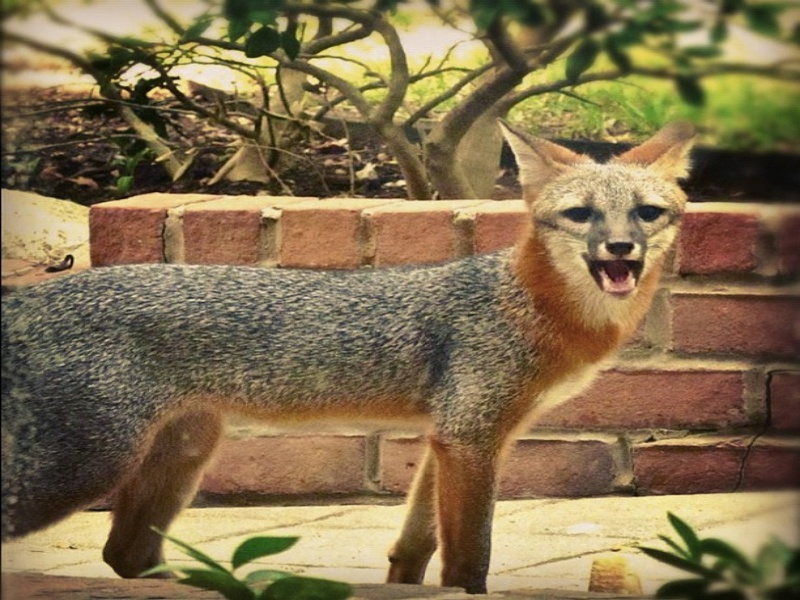fox: (1, 109, 703, 583)
